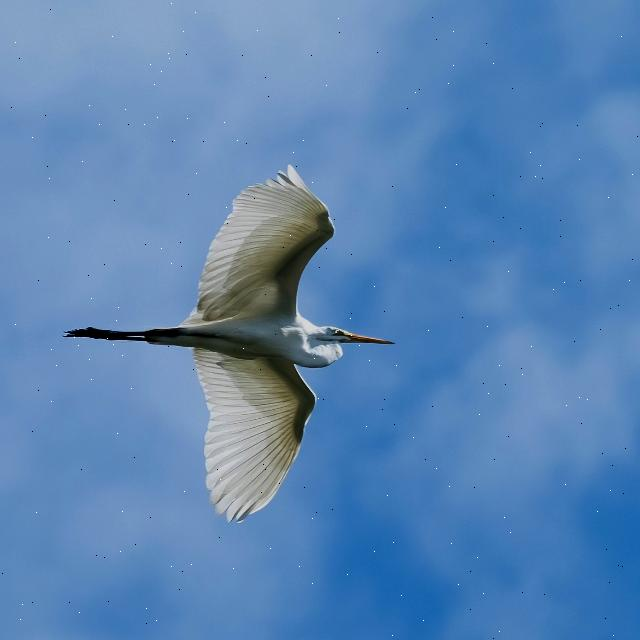egret: (42, 159, 400, 521)
